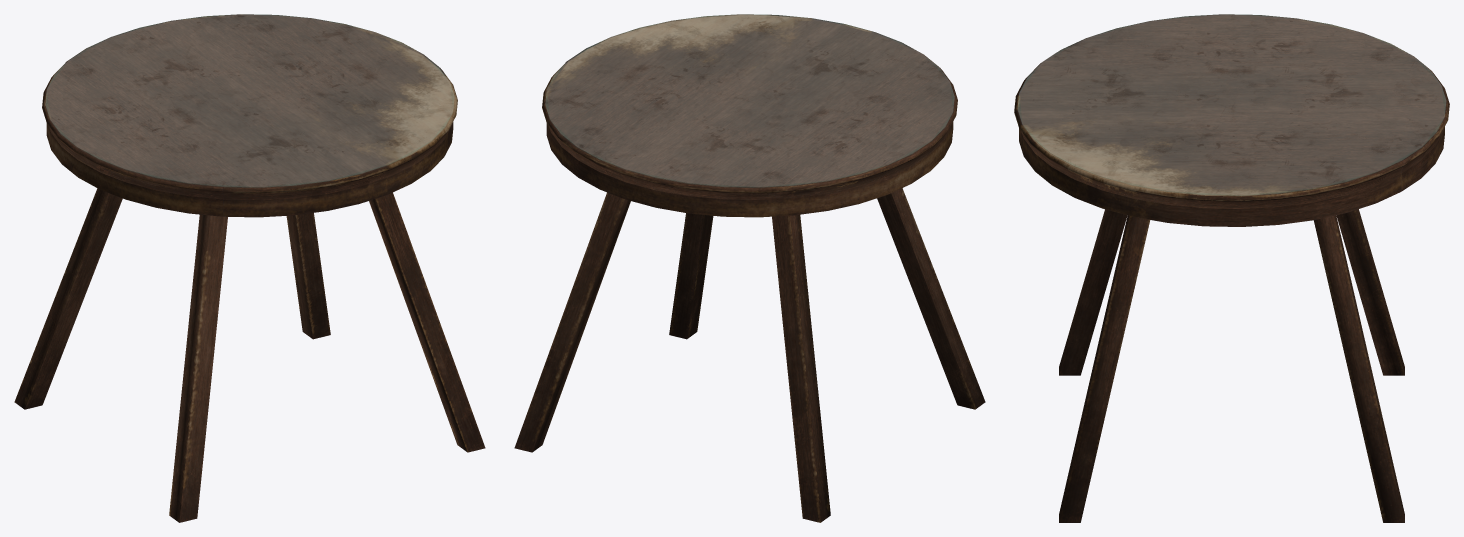
File: weathered_round_table__metal_top__wooden_legs.glb
3 views of the same model, side by side, from view 1: azimuth 30°, elevation 25°; view 2: azimuth 150°, elevation 25°; view 3: azimuth 270°, elevation 25° (orthographic). The views are drawn at different scales.
Parts seen in each view (by area): view 1: Table_LP_Solid_0, Table_LP_Glass_0; view 2: Table_LP_Solid_0, Table_LP_Glass_0; view 3: Table_LP_Solid_0, Table_LP_Glass_0.
Boxes of the visible parts, x1,y1,x2,y2 form: Table_LP_Solid_0: (14, 14, 485, 522); Table_LP_Glass_0: (45, 14, 454, 187); Table_LP_Solid_0: (514, 14, 985, 522); Table_LP_Glass_0: (545, 14, 954, 187); Table_LP_Solid_0: (1014, 14, 1449, 522); Table_LP_Glass_0: (1018, 14, 1445, 195).
Bounding box in the file's own units: 0.8065 × 0.6946 × 0.8065.
2 materials, 2 textured.
